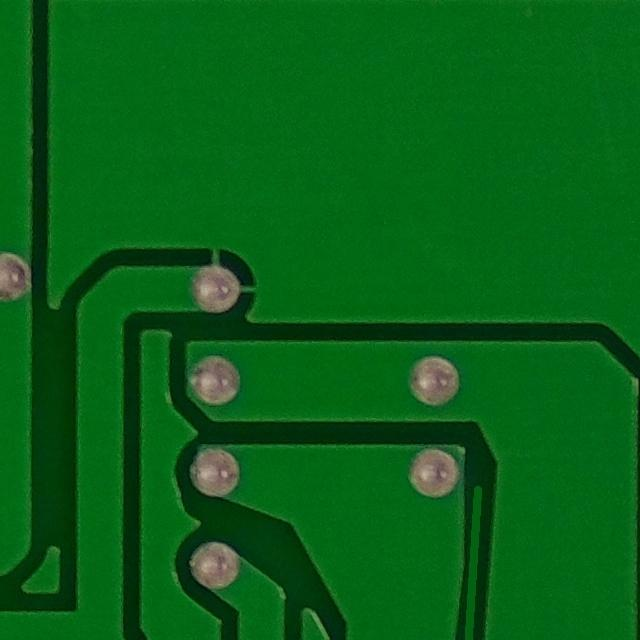spurious_copper: (449, 480, 505, 640)
